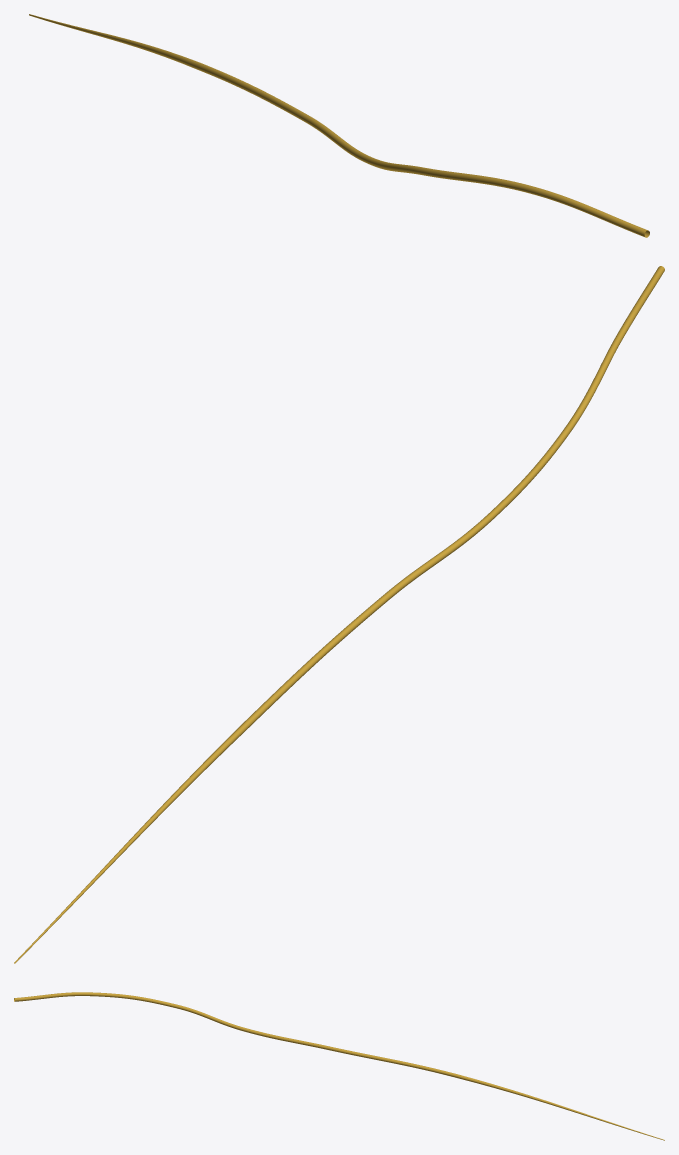
The picture shows the model from 3 angles, top to bottom: view 1: azimuth 30°, elevation 25°; view 2: azimuth 150°, elevation 25°; view 3: azimuth 270°, elevation 25°; orthographic projection. The views are drawn at different scales.
Visible parts, largest first — view 1: 左侧骨间后神经; view 2: 左侧骨间后神经; view 3: 左侧骨间后神经.
Boxes of the visible parts, <box> form: 左侧骨间后神经: <box>29,14,649,237</box>; 左侧骨间后神经: <box>14,266,664,963</box>; 左侧骨间后神经: <box>14,992,664,1140</box>.
Bounding box in the file's own units: 0.0211 × 0.0562 × 0.2465.
